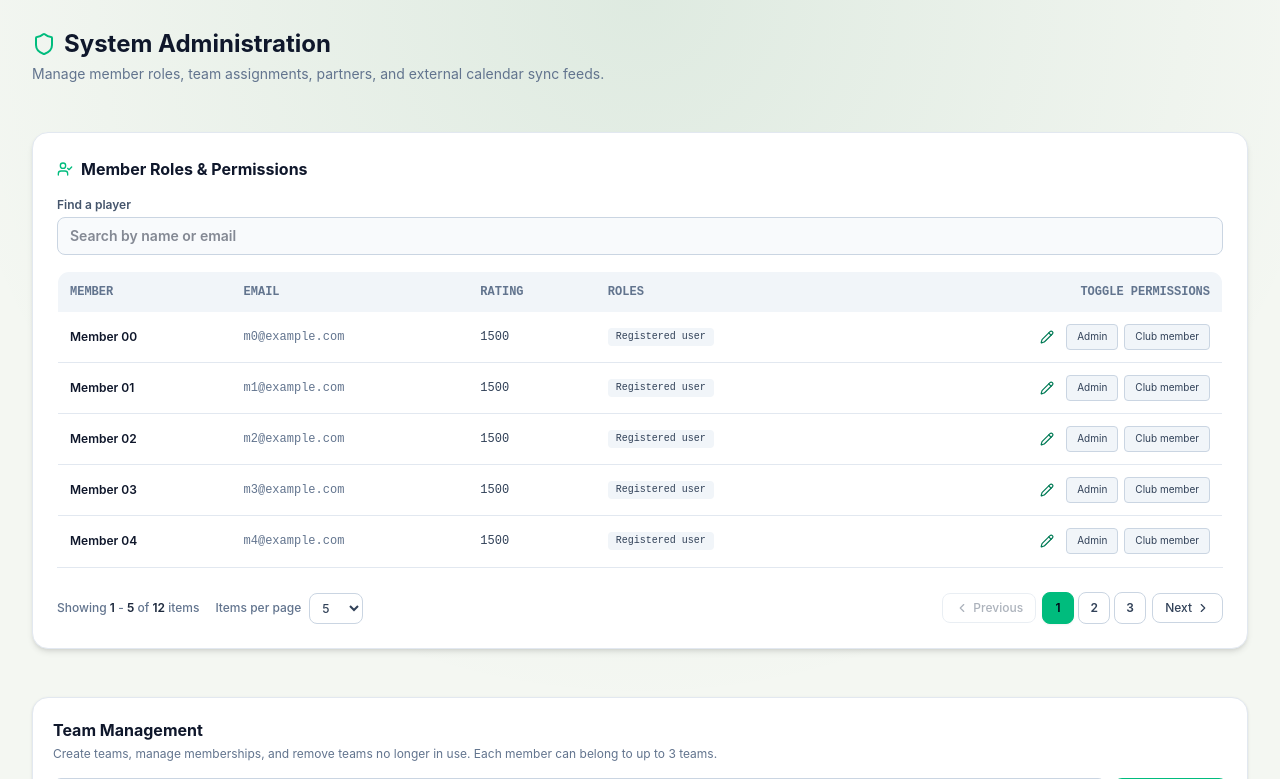
AdminView › lets admins change and persist the member page size
Check: the text "Member 00" is shown, box [70,329,137,345]
Check: the text "Member 05" is not shown
Select "20" in the dropdown labelled "Items per page": [336, 608] box [309,592,363,624]
(page scrolled)
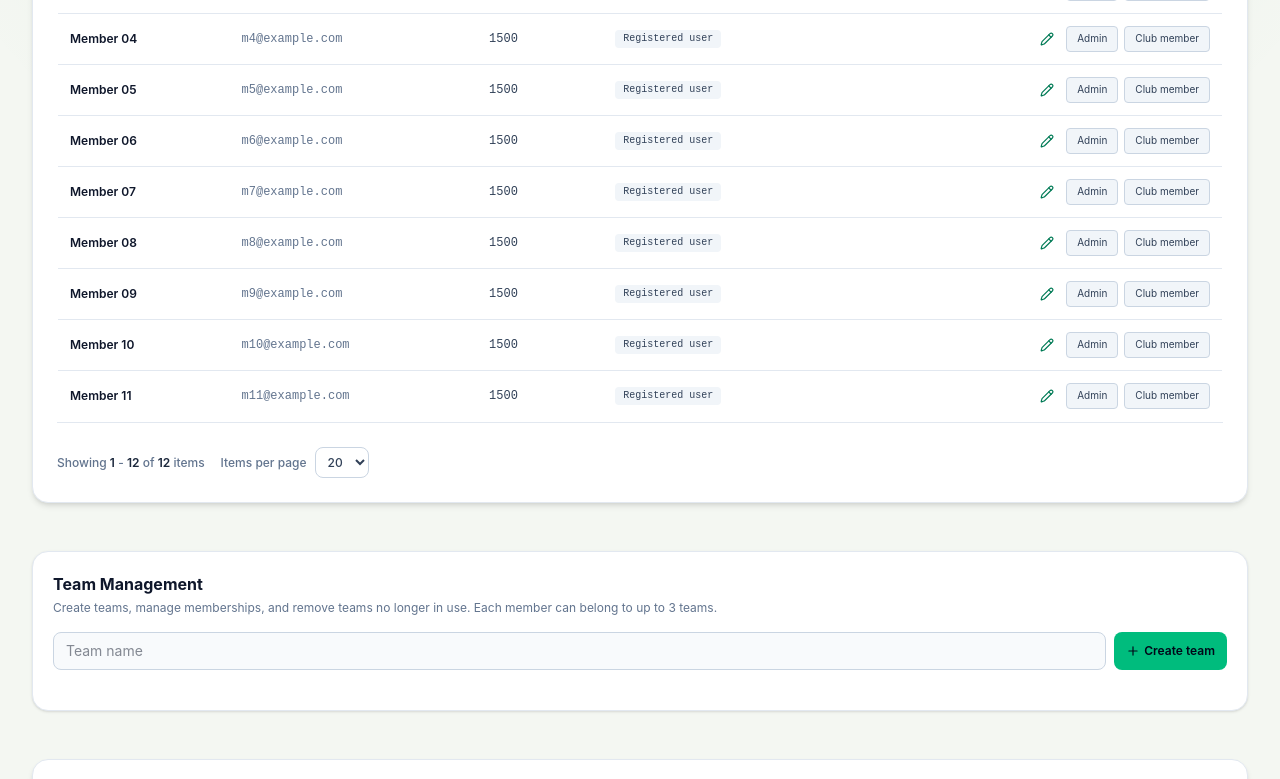
Check: the text "Member 11" is shown, box [70,388,132,404]
